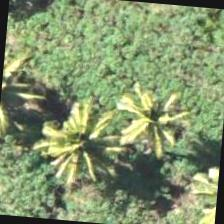Kelapa_Sawit: (110, 71, 208, 169), (43, 76, 141, 174), (0, 40, 57, 135)
